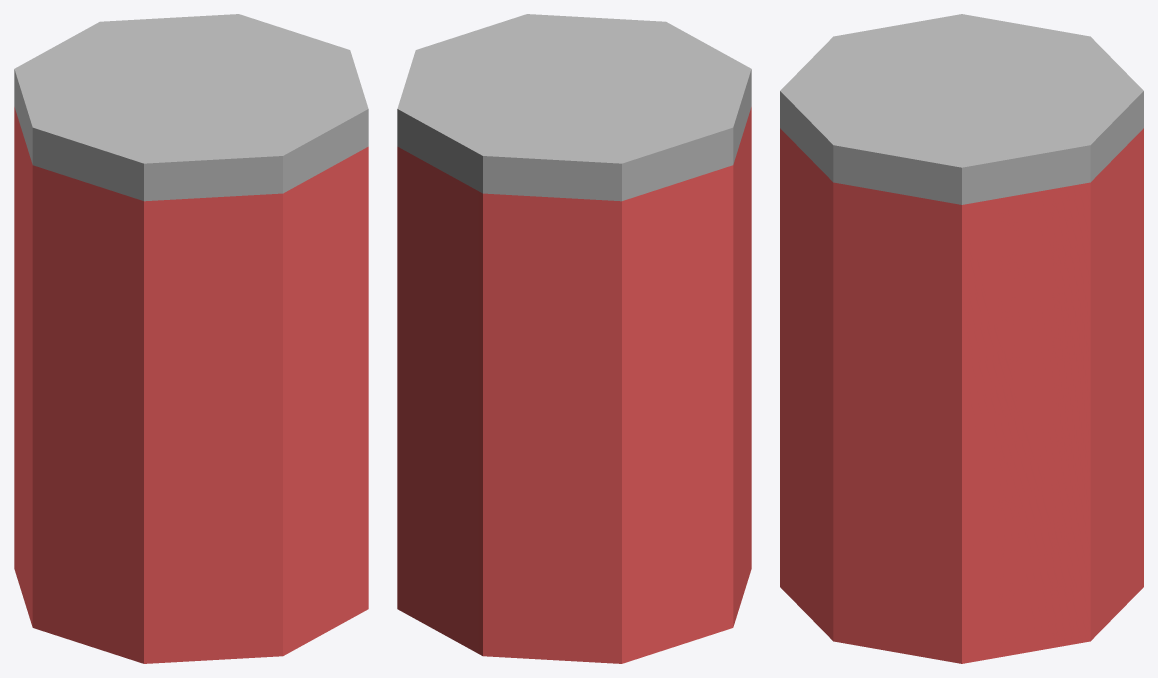
File: Soda.fbx
3 views of the same model, side by side, from view 1: azimuth 30°, elevation 25°; view 2: azimuth 150°, elevation 25°; view 3: azimuth 270°, elevation 25° (orthographic).
Visible parts, largest first — view 1: Soda; view 2: Soda; view 3: Soda.
Boxes of the visible parts, x1,y1,x2,y2 form: Soda: (14, 14, 368, 663); Soda: (397, 14, 751, 663); Soda: (780, 14, 1143, 663).
Size of the model in its own units: 7.23 by 10.88 by 7.23.
